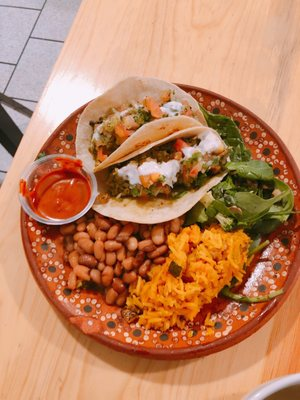sushi: (18, 153, 98, 226), (240, 372, 300, 400)
